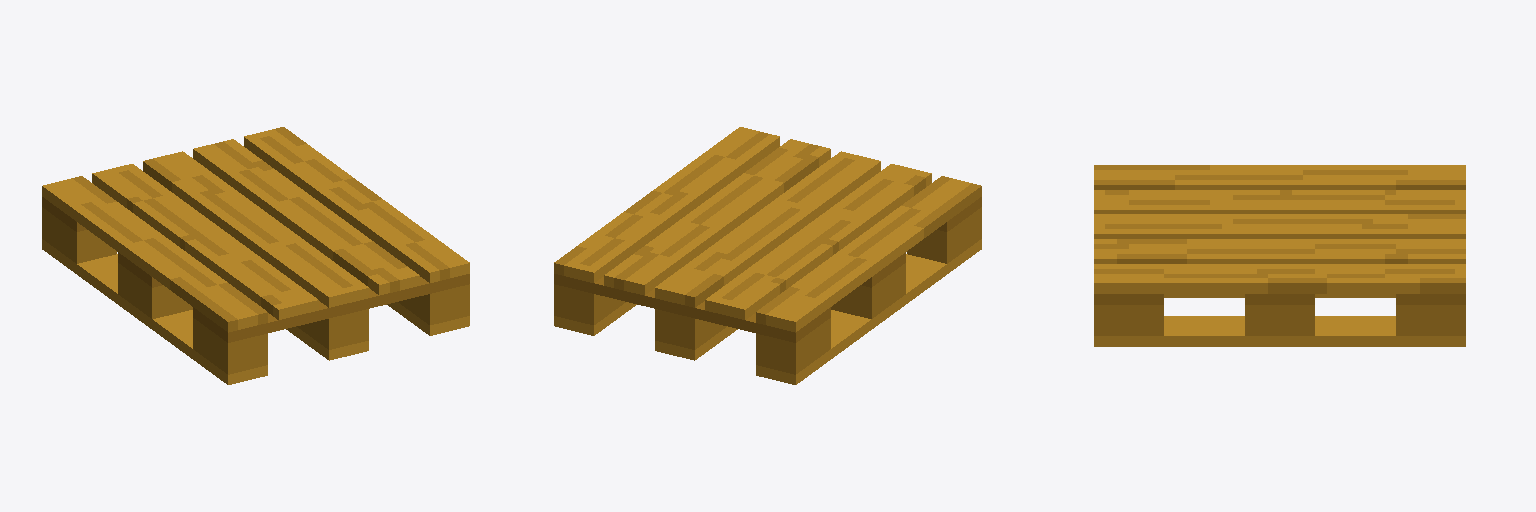
3 renders of one model, left to right at view 1: azimuth 30°, elevation 25°; view 2: azimuth 150°, elevation 25°; view 3: azimuth 270°, elevation 25°, orthographic.
Visible parts, largest first — view 1: palette; view 2: palette; view 3: palette.
Boxes of the visible parts, x1=… form: palette: x1=42, y1=127, x2=469, y2=384; palette: x1=554, y1=127, x2=981, y2=384; palette: x1=1094, y1=165, x2=1465, y2=346.
Bounding box in the file's own units: 24 × 6 × 32.
1 materials, 1 textured.